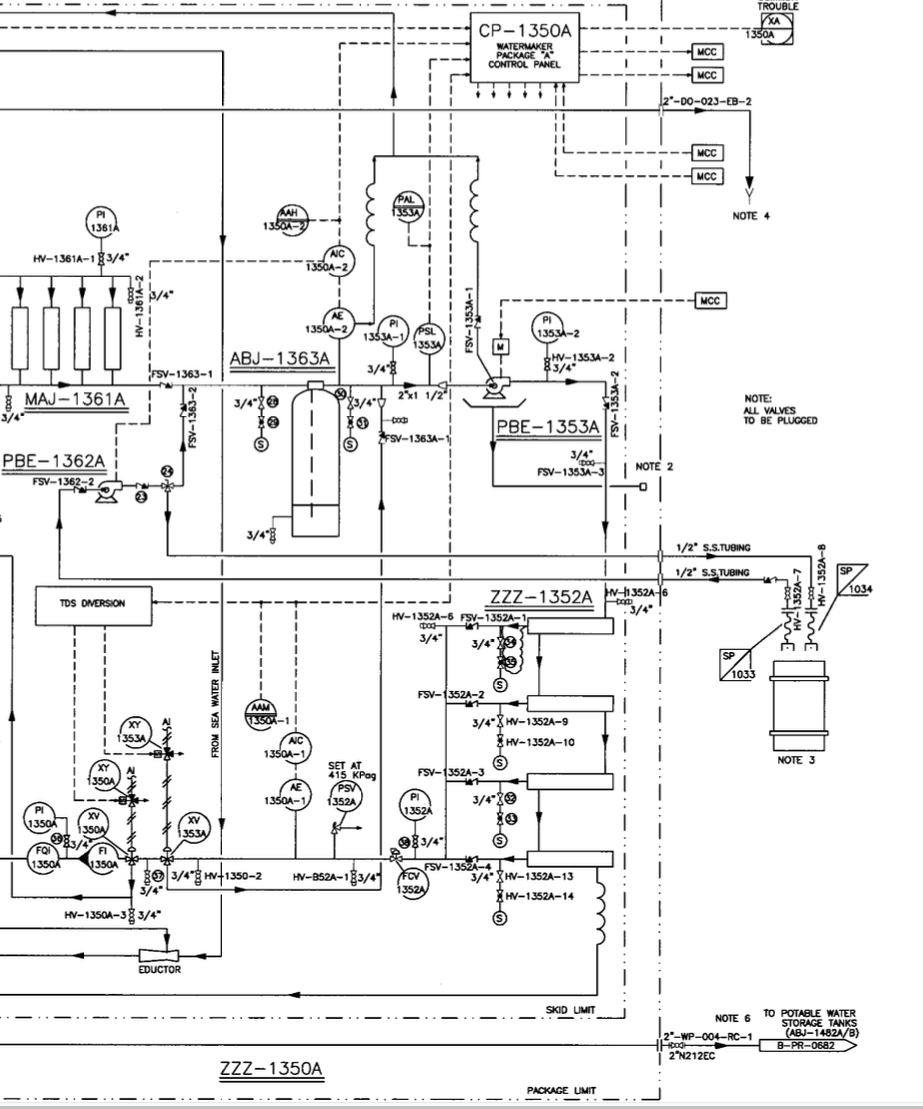Instrument-offset: (297, 237, 370, 284), (18, 839, 77, 892), (256, 774, 320, 820), (296, 302, 362, 346), (257, 196, 316, 243), (380, 181, 431, 235), (231, 692, 295, 734), (529, 300, 585, 347), (395, 861, 441, 911), (408, 309, 454, 359), (390, 785, 441, 828), (85, 193, 126, 246), (361, 304, 408, 350), (263, 732, 318, 771), (78, 837, 124, 883), (323, 781, 373, 820), (112, 706, 156, 750), (18, 790, 63, 833), (83, 750, 124, 797), (174, 806, 216, 849), (71, 803, 111, 845)
Instrument-square-offset: (739, 8, 804, 58)
